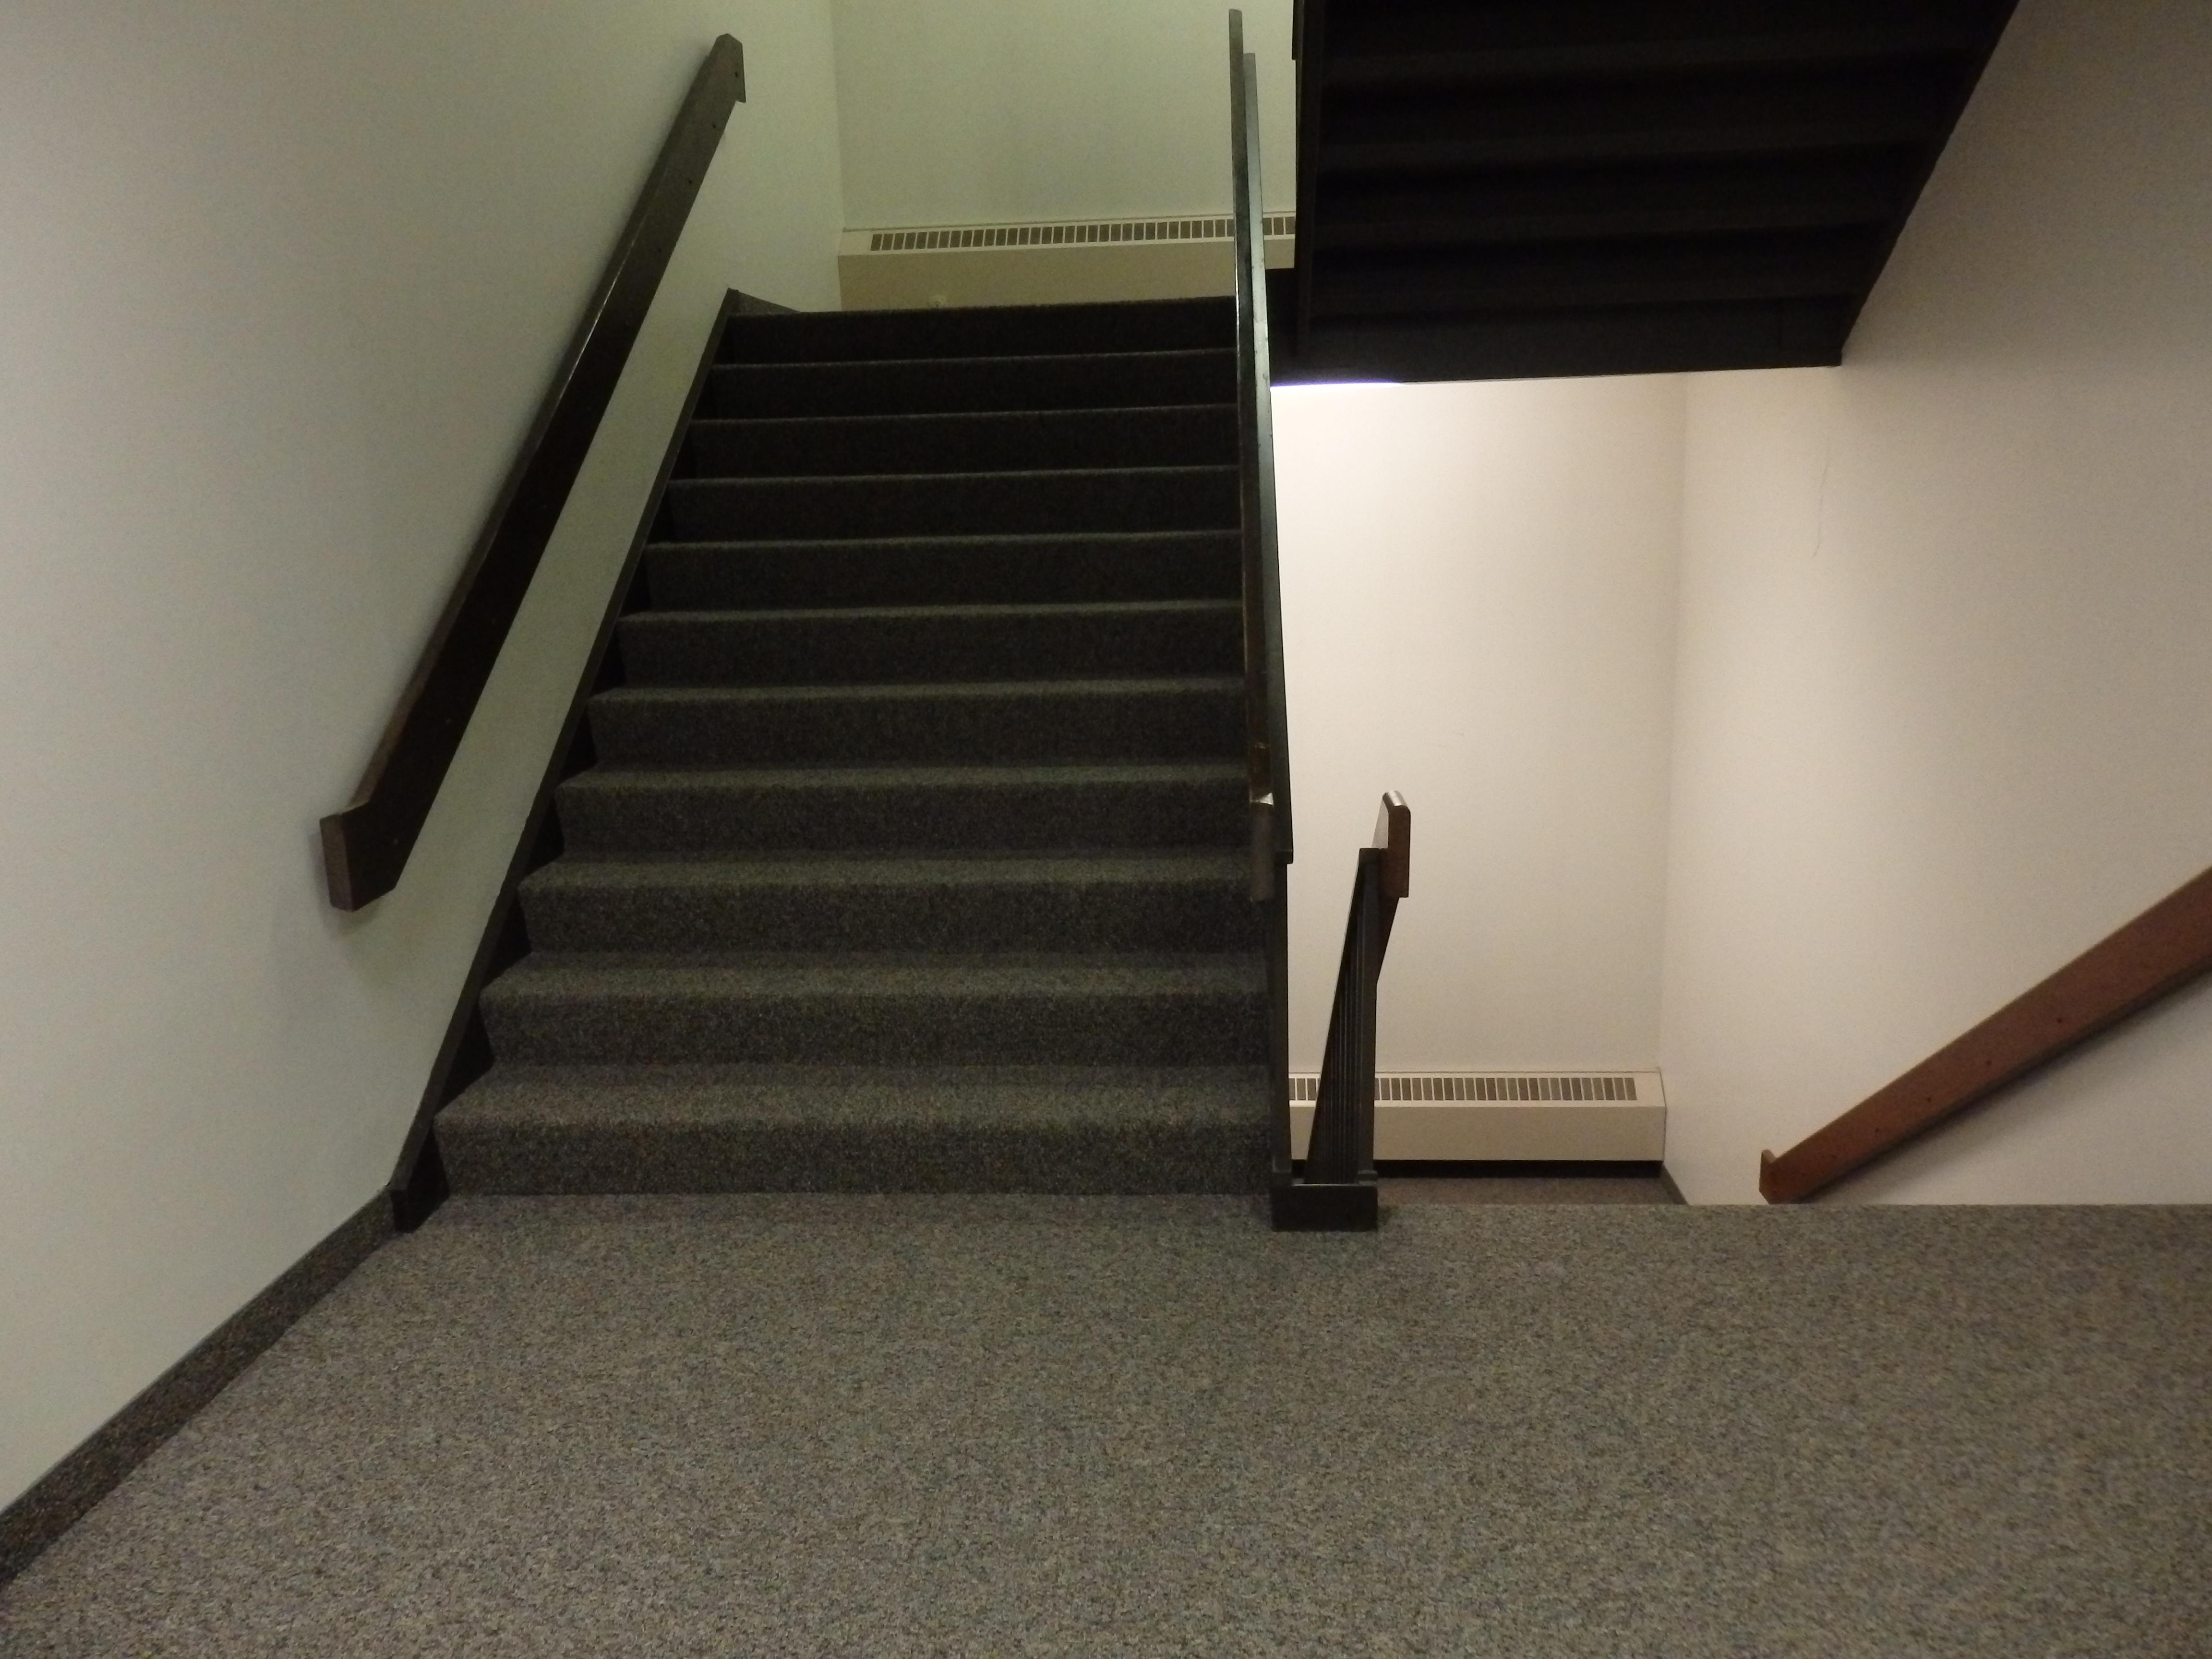stairs_up: (439, 275, 1256, 1150)
